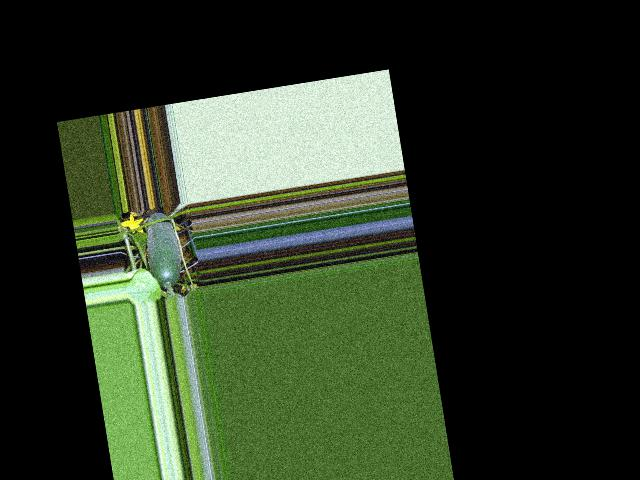cucumber: (141, 210, 185, 291)
